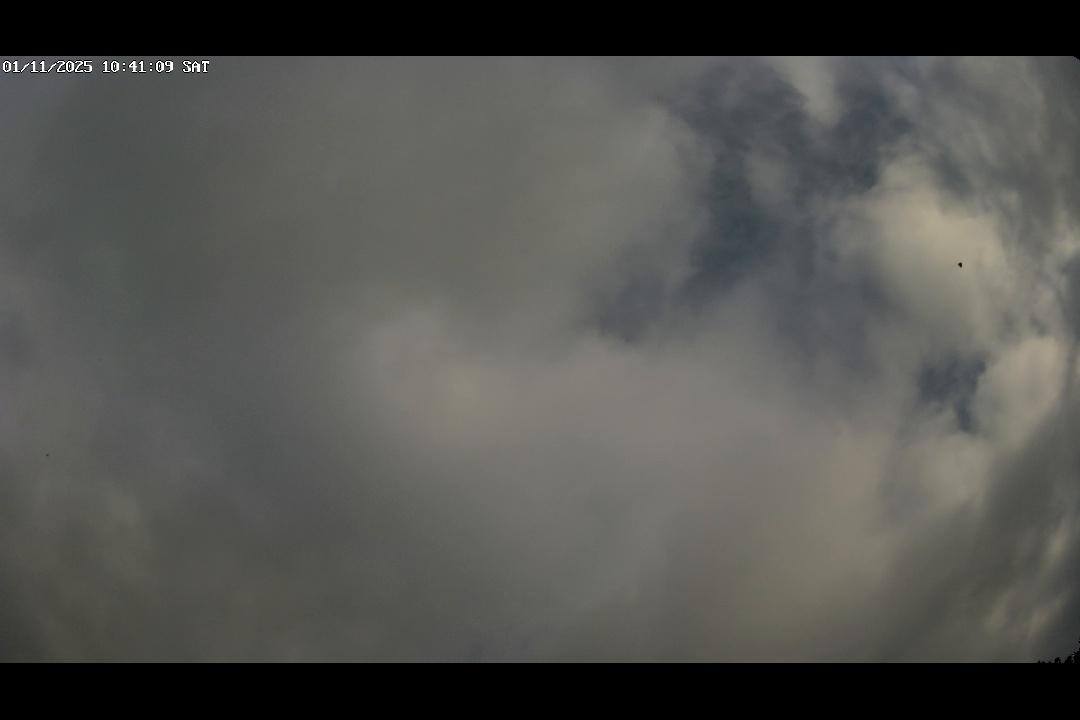WildLife: (945, 258, 974, 272)
